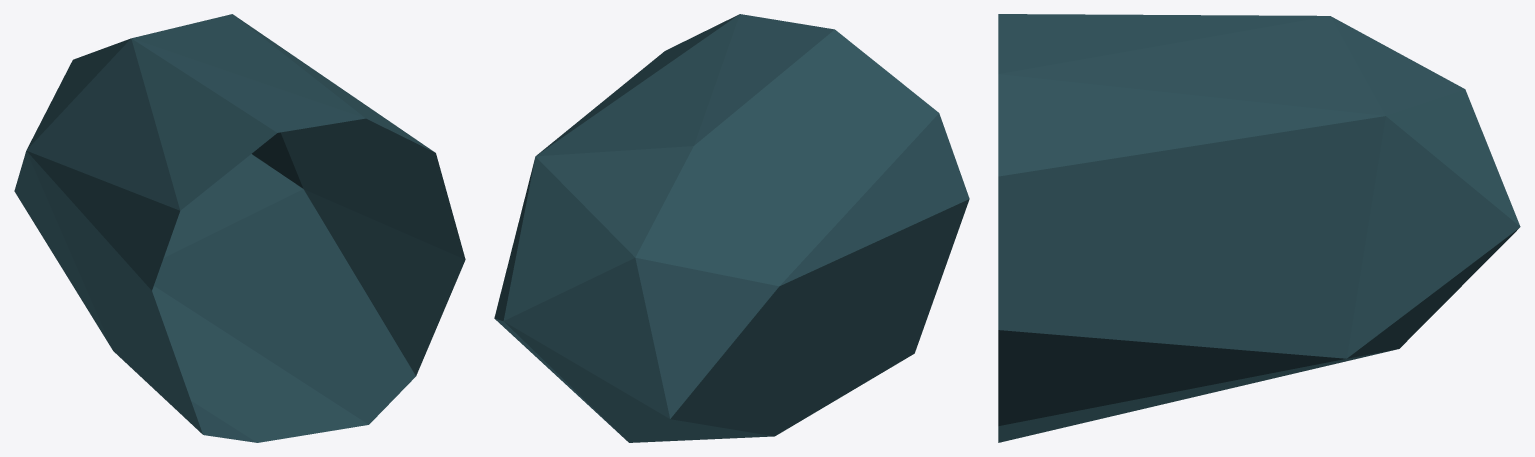
The model's file is Rock_2.fbx.
3 renders of one model, left to right at view 1: azimuth 30°, elevation 25°; view 2: azimuth 150°, elevation 25°; view 3: azimuth 270°, elevation 25°, orthographic. The views are drawn at different scales.
Visible parts, largest first — view 1: Rock_2.001; view 2: Rock_2.001; view 3: Rock_2.001.
Part boxes in pixels (box(x1,y1,x2,y2)): Rock_2.001: box(14, 14, 465, 442); Rock_2.001: box(494, 14, 969, 442); Rock_2.001: box(998, 14, 1520, 442).
Bounding box in the file's own units: 1.32 × 1.27 × 1.6.
